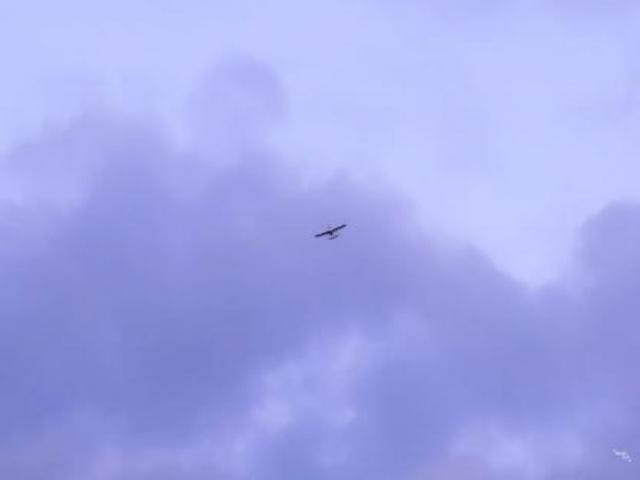uav: (313, 221, 349, 243)
